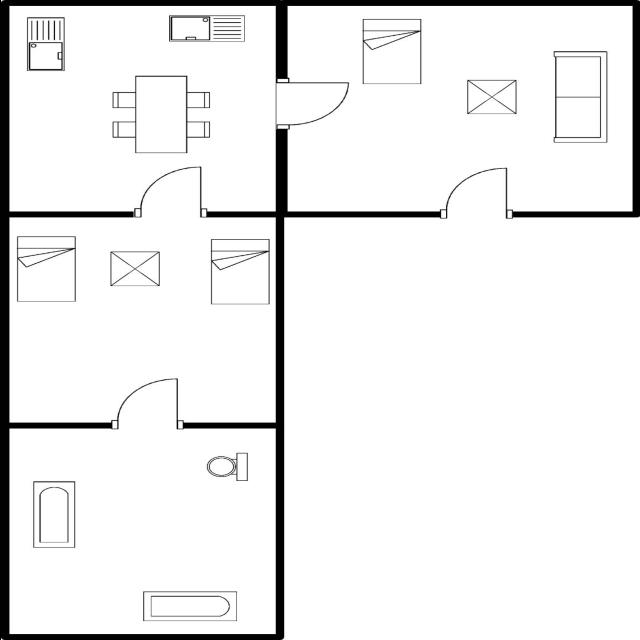bed: (358, 15, 426, 87), (206, 236, 274, 308), (14, 232, 80, 306)
coffee_table: (104, 247, 164, 290), (463, 76, 520, 116)
dining_table: (106, 71, 215, 157)
large_sink: (201, 448, 253, 482)
large_sofa: (548, 48, 612, 144)
sink: (22, 14, 70, 76), (165, 12, 248, 44)
tub: (27, 478, 79, 552), (138, 588, 240, 625)
